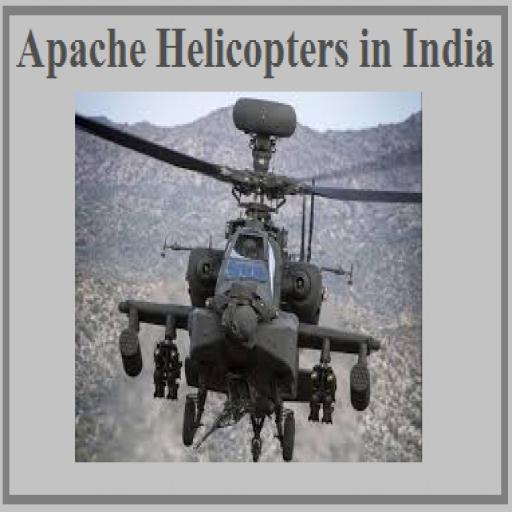helicopter: (103, 85, 386, 458)
